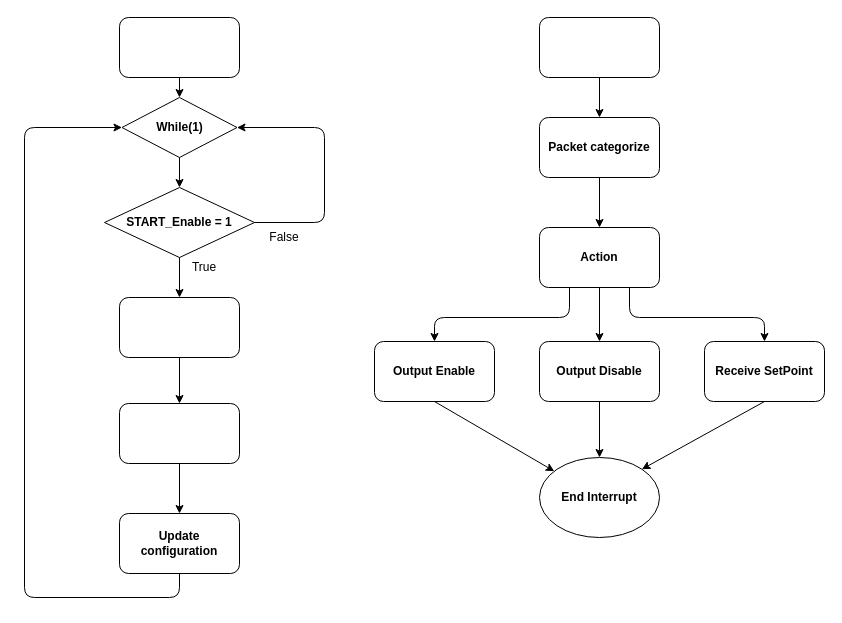
The diagram is 842 pixels wide and 623 high, and some of its shapes have lost their labels. Each missing label, with the centre of its shape:
"Control PI" goes at pixel 179 433.
"Initial state" goes at pixel 179 47.
"Interrupt initialize" goes at pixel 599 47.
"Polling for ADC value" goes at pixel 179 327.
